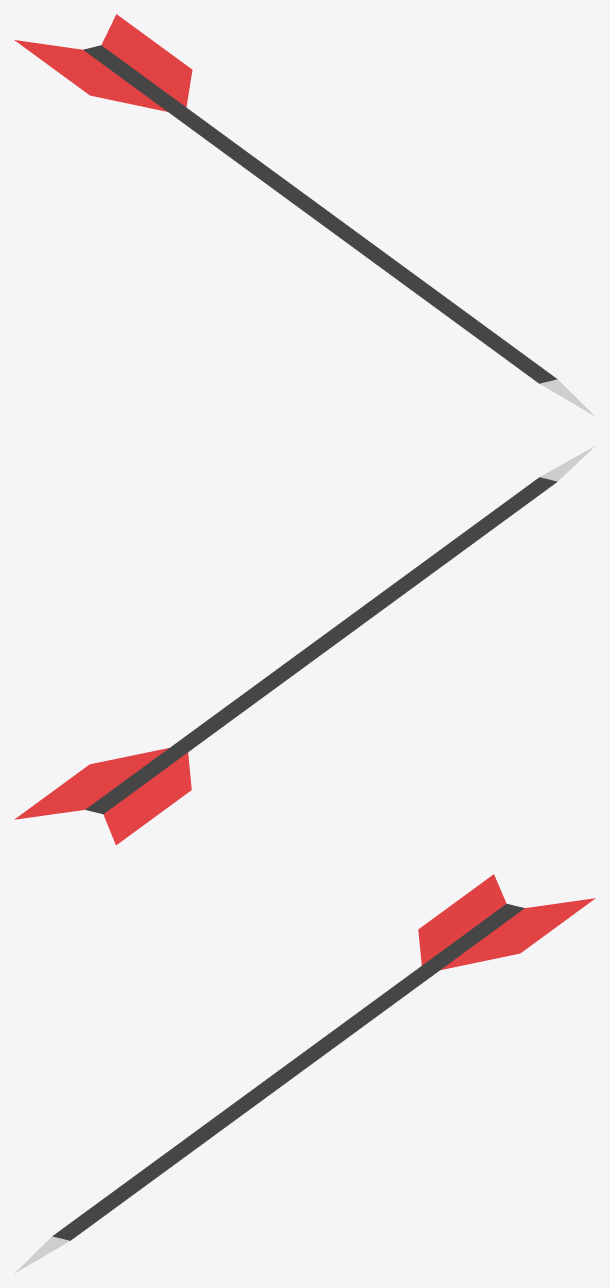
Rendered from arrow.glb.
3 views of the same model, one above another, from view 1: azimuth 30°, elevation 25°; view 2: azimuth 150°, elevation 25°; view 3: azimuth 330°, elevation 25° (orthographic).
Visible parts, largest first — view 1: Cube; view 2: Cube; view 3: Cube.
Boxes of the visible parts, x1,y1,x2,y2 form: Cube: (14, 14, 595, 416); Cube: (14, 446, 594, 845); Cube: (14, 874, 595, 1273).
Bounding box in the file's own units: 0.0556 × 0.000442 × 0.5.
